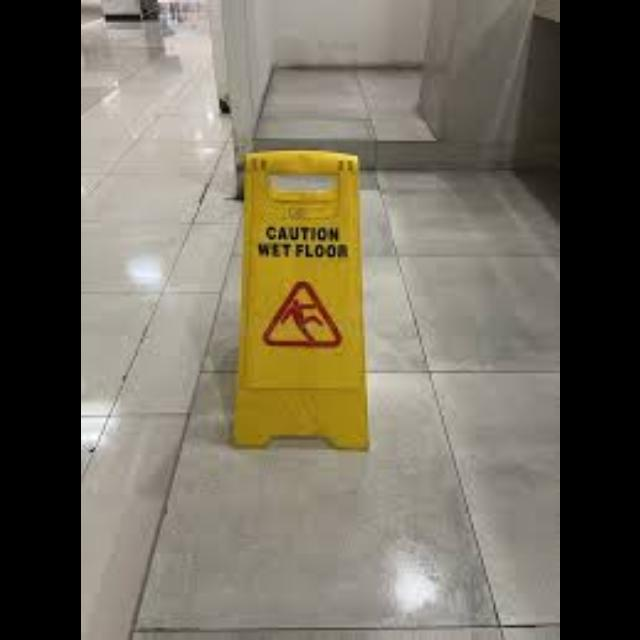slippery_floor: (231, 151, 367, 447)
